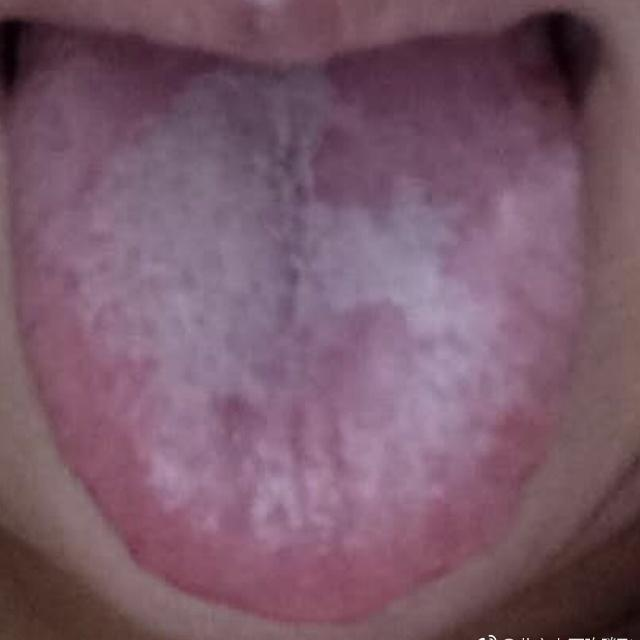baitaishe: (3, 40, 590, 623)
botaishe: (300, 109, 440, 235)
